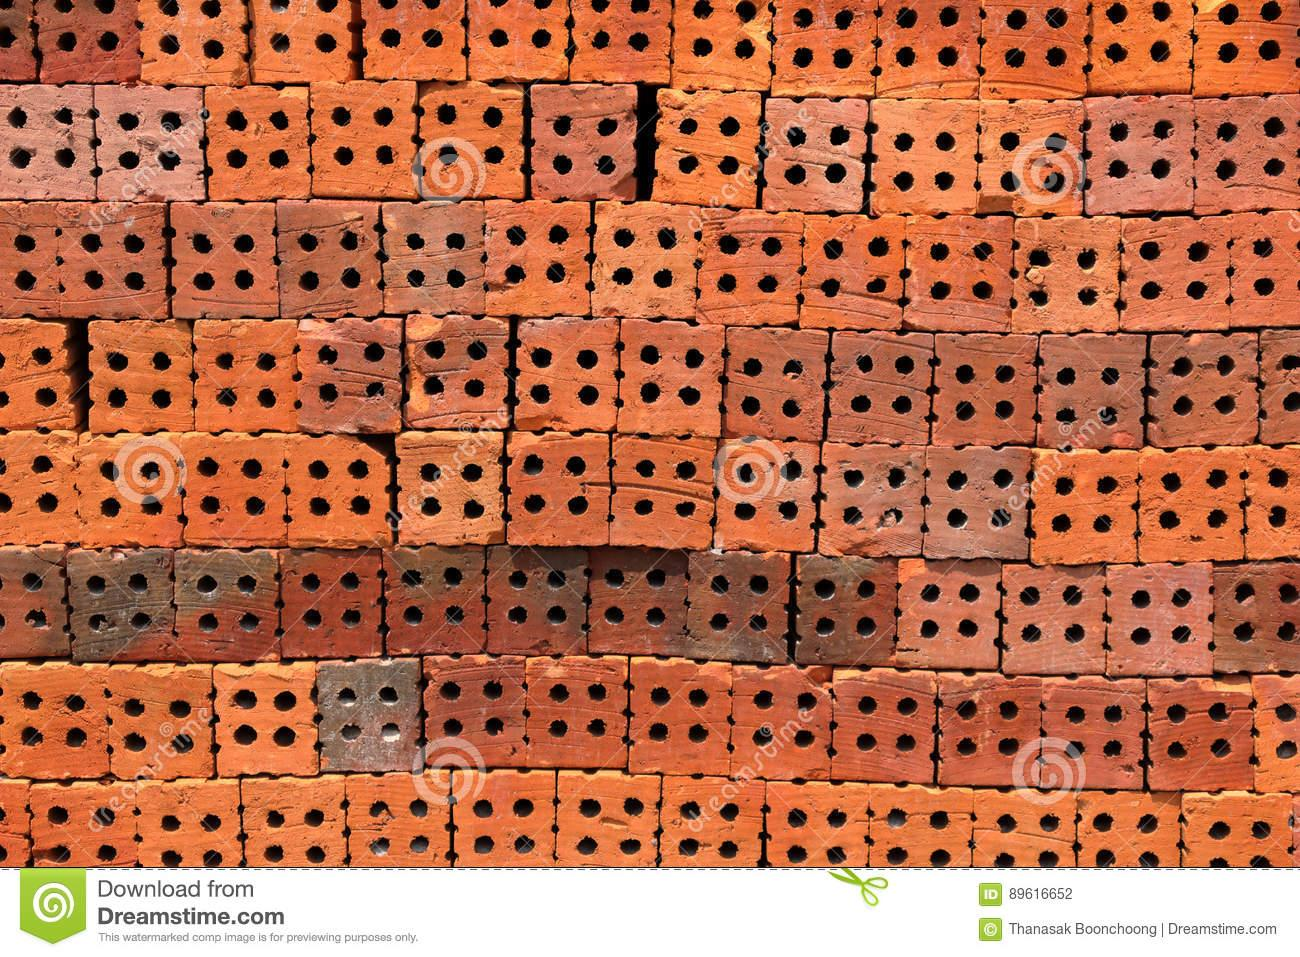brick: (650, 89, 761, 207), (310, 81, 420, 199), (95, 84, 204, 201), (1084, 97, 1193, 214), (905, 216, 1013, 333), (1148, 332, 1258, 446), (869, 100, 978, 215), (1195, 95, 1300, 214), (0, 665, 110, 778), (1038, 333, 1147, 447), (590, 201, 697, 317), (532, 84, 638, 201), (619, 319, 724, 437), (397, 431, 505, 545), (171, 202, 277, 318), (1031, 447, 1136, 563), (278, 199, 382, 317), (204, 86, 311, 200), (68, 548, 175, 662), (820, 442, 926, 557), (698, 208, 803, 324), (1015, 216, 1119, 333), (631, 657, 733, 776), (1106, 563, 1214, 675), (1121, 216, 1227, 330), (611, 434, 717, 548), (484, 201, 589, 316), (827, 330, 932, 445), (61, 201, 165, 317), (286, 434, 392, 547), (316, 658, 422, 771), (78, 432, 183, 546), (89, 320, 193, 435), (175, 548, 279, 663), (833, 667, 936, 783), (715, 439, 820, 552), (925, 446, 1030, 559), (195, 320, 299, 434), (1141, 447, 1242, 563), (297, 319, 401, 432), (109, 666, 213, 779), (406, 315, 509, 429), (422, 82, 524, 197), (980, 101, 1082, 216), (800, 214, 902, 329), (893, 559, 1000, 668), (725, 328, 830, 439), (764, 98, 867, 211), (183, 432, 286, 545), (938, 673, 1041, 786), (932, 334, 1037, 444), (514, 318, 618, 429), (1150, 677, 1253, 789), (383, 202, 483, 316), (507, 431, 608, 545), (1001, 564, 1106, 673), (0, 84, 96, 203), (796, 554, 897, 667), (1044, 676, 1145, 788), (733, 664, 831, 779), (423, 655, 524, 766), (214, 665, 315, 776), (688, 550, 788, 662), (280, 548, 382, 657), (526, 657, 627, 766), (383, 547, 484, 654), (488, 546, 587, 654), (979, 0, 1088, 99), (589, 548, 688, 655), (876, 0, 981, 99), (771, 0, 877, 97), (1194, 0, 1300, 95), (556, 770, 659, 867), (347, 770, 449, 867), (453, 770, 554, 867), (136, 0, 249, 86), (242, 776, 347, 867), (1089, 0, 1192, 92), (660, 776, 764, 867), (1215, 562, 1300, 672), (31, 784, 146, 864), (672, 0, 770, 90), (137, 783, 242, 867), (1182, 790, 1295, 867), (765, 782, 867, 867), (35, 0, 140, 82), (359, 0, 465, 81), (1, 431, 77, 544), (869, 783, 971, 867), (568, 0, 671, 82), (467, 1, 570, 83), (250, 0, 351, 82), (1230, 211, 1300, 325), (972, 789, 1074, 867), (1077, 790, 1180, 867), (0, 319, 71, 430), (0, 544, 68, 656), (1, 201, 59, 319), (1242, 444, 1300, 558), (1255, 674, 1300, 791), (1261, 329, 1300, 442)
